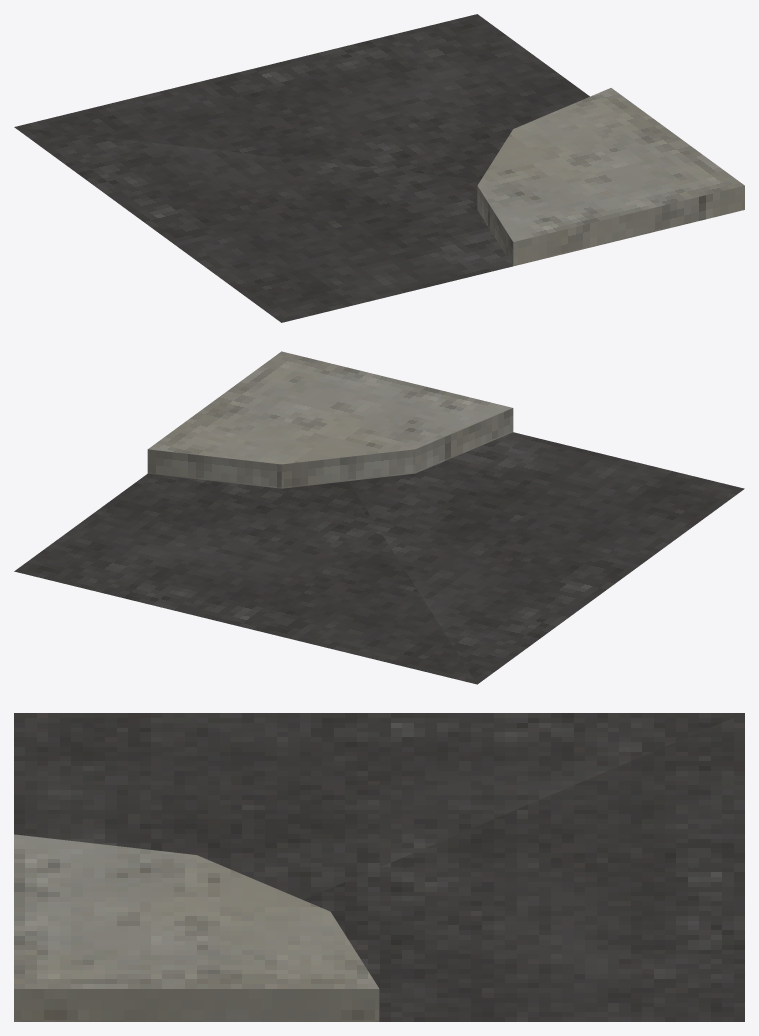
Rendered from roadAsphalt_cornerOuter.fbx.
The picture shows the model from 3 angles, top to bottom: view 1: azimuth 30°, elevation 25°; view 2: azimuth 150°, elevation 25°; view 3: azimuth 270°, elevation 25°; orthographic projection. The views are drawn at different scales.
Parts seen in each view (by area): view 1: roadAsphalt_cornerOuter; view 2: roadAsphalt_cornerOuter; view 3: roadAsphalt_cornerOuter.
Part boxes in pixels (box(x1,y1,x2,y2)): roadAsphalt_cornerOuter: box(14, 14, 744, 322); roadAsphalt_cornerOuter: box(14, 351, 744, 684); roadAsphalt_cornerOuter: box(14, 713, 744, 1021).
Size of the model in its own units: 10 by 0.5 by 10.
